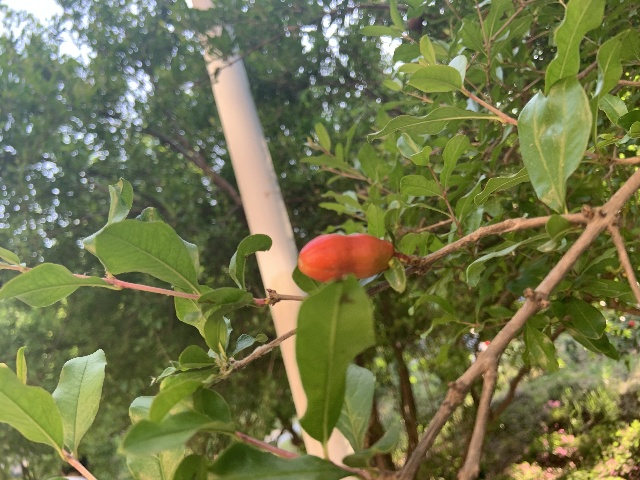bud: (297, 232, 393, 282)
